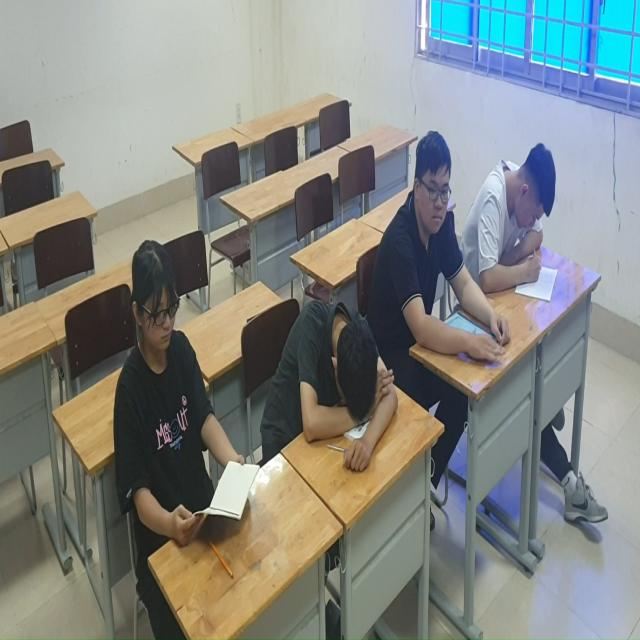read: (108, 235, 253, 576), (391, 130, 509, 363), (471, 138, 570, 308)
sleep: (257, 294, 401, 485)
